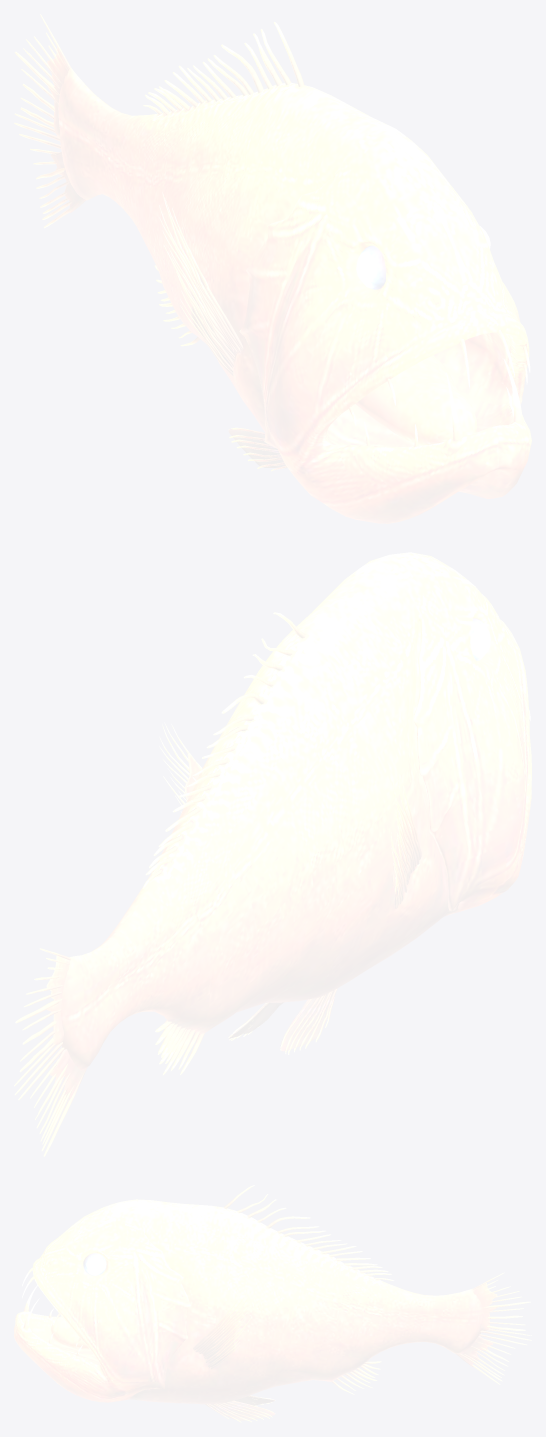
File: Commonfangtooth.glb
3 views of the same model, one above another, from view 1: azimuth 30°, elevation 25°; view 2: azimuth 150°, elevation 25°; view 3: azimuth 270°, elevation 25° (orthographic). The views are drawn at different scales.
Visible parts, largest first — view 1: common_fangtooth_LOD2.1; view 2: common_fangtooth_LOD2.1; view 3: common_fangtooth_LOD2.1.
Part boxes in pixels (x1,y1,x2,y2): common_fangtooth_LOD2.1: [14, 14, 531, 523]; common_fangtooth_LOD2.1: [14, 552, 531, 1156]; common_fangtooth_LOD2.1: [14, 1185, 531, 1422].
Bounding box in the file's own units: 0.0434 × 0.0754 × 0.1538.
Materials: 1 (1 with a texture image).
